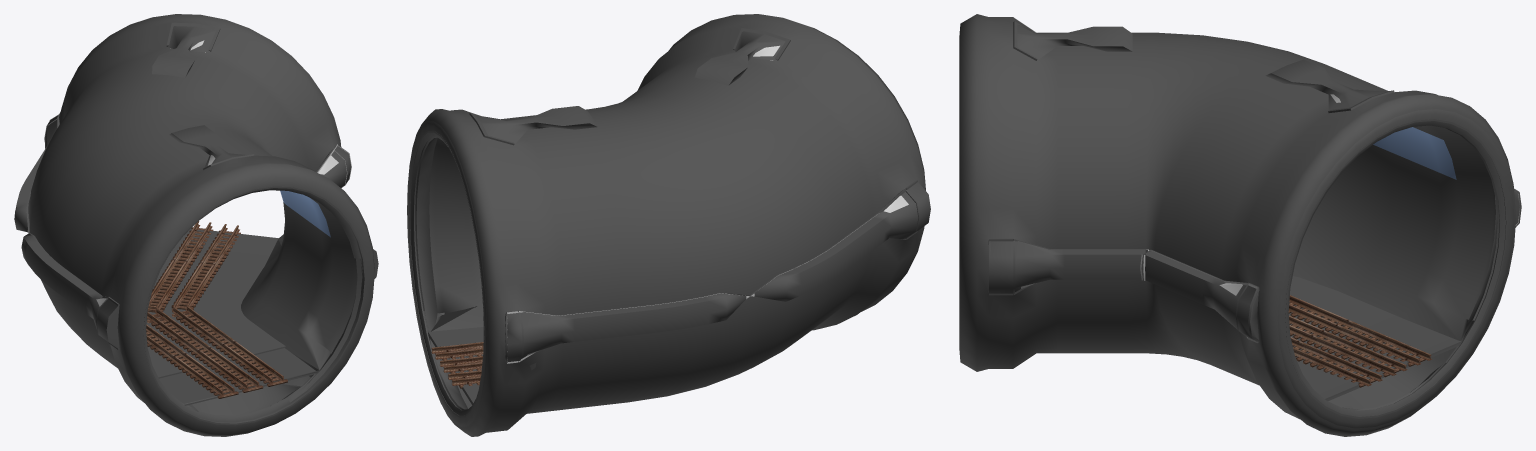
Rendered from subw_right.fbx.
The picture shows the model from 3 angles, left to right: view 1: azimuth 30°, elevation 25°; view 2: azimuth 150°, elevation 25°; view 3: azimuth 270°, elevation 25°; orthographic projection. The views are drawn at different scales.
Parts seen in each view (by area): view 1: sw_R_tube, sw_R_LaR, sw_R_LaM, sw_R_LaL; view 2: sw_R_tube, sw_R_LaR, sw_R_LaM; view 3: sw_R_tube, sw_R_LaL, sw_R_LaM, sw_R_LaR.
Boxes of the visible parts, x1,y1,x2,y2 form: sw_R_tube: (14,14,378,436); sw_R_LaR: (171,224,287,386); sw_R_LaM: (149,221,263,392); sw_R_LaL: (146,324,238,398); sw_R_tube: (407,14,930,436); sw_R_LaR: (431,342,483,360); sw_R_LaM: (440,356,482,373); sw_R_tube: (959,14,1521,436); sw_R_LaL: (1288,295,1431,366); sw_R_LaM: (1289,315,1407,377); sw_R_LaR: (1290,337,1382,387).
Bounding box in the file's own units: 256 × 185 × 290.
4 materials, 1 textured.
